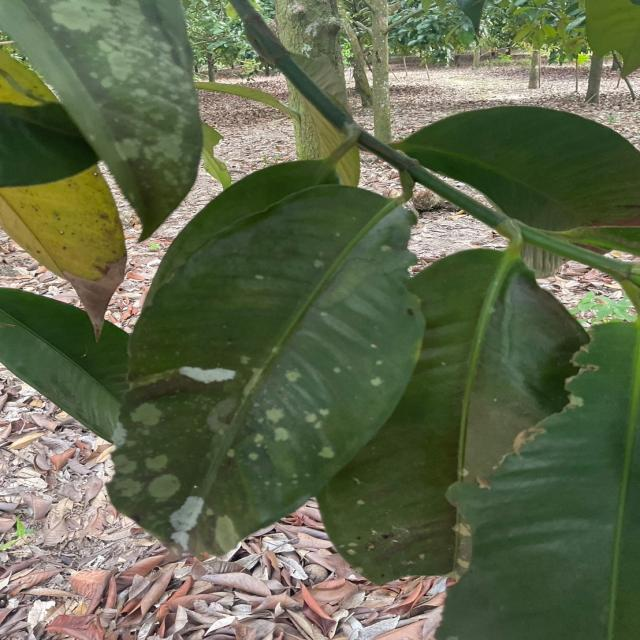Leaf Spot: (126, 382, 344, 544), (47, 1, 201, 195), (244, 325, 419, 389)
